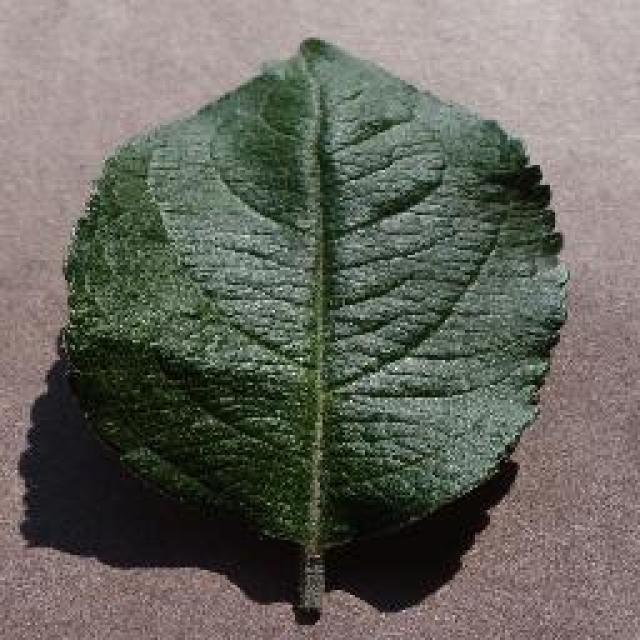apple healthy: (58, 33, 570, 615)
